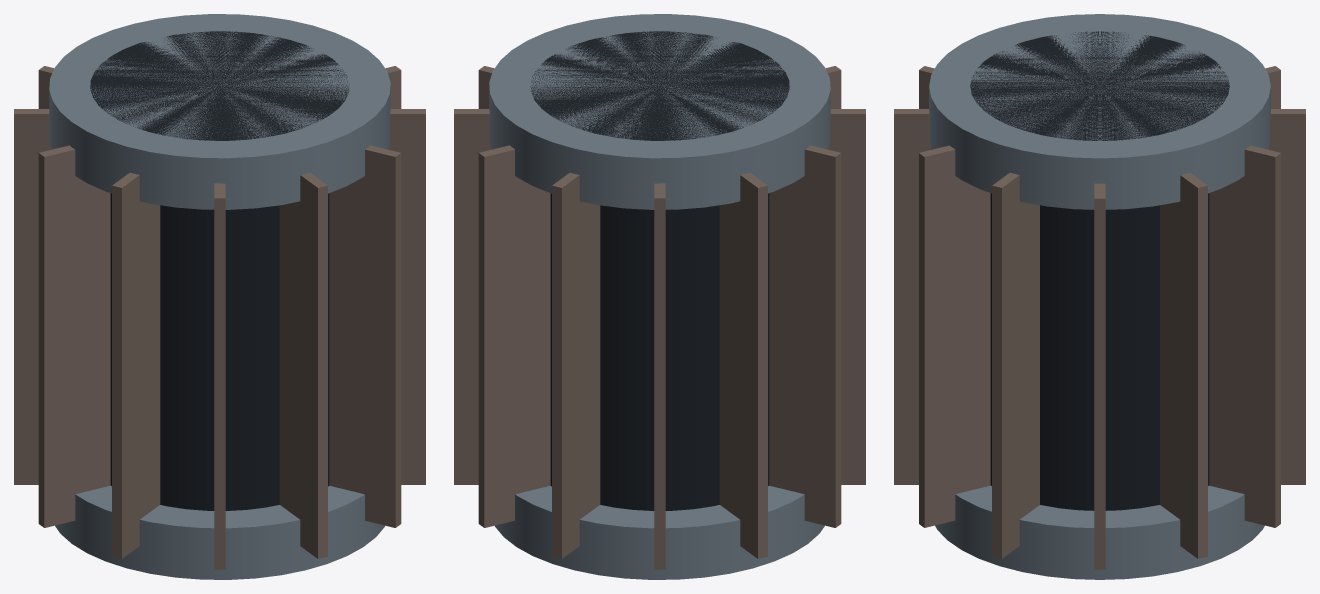
Rendered from voyager_rtg_boom.deployment.rtg_03.glb.
3 renders of one model, left to right at view 1: azimuth 30°, elevation 25°; view 2: azimuth 150°, elevation 25°; view 3: azimuth 270°, elevation 25°, orthographic.
Visible parts, largest first — view 1: voyager_rtg_boom.deployment.rtg_03.mesh_Heat-stained_alloy, voyager_rtg_boom.deployment.rtg_03.mesh_Machined_steel, voyager_rtg_boom.deployment.rtg_03.mesh_Carbon_composite; view 2: voyager_rtg_boom.deployment.rtg_03.mesh_Heat-stained_alloy, voyager_rtg_boom.deployment.rtg_03.mesh_Machined_steel, voyager_rtg_boom.deployment.rtg_03.mesh_Carbon_composite; view 3: voyager_rtg_boom.deployment.rtg_03.mesh_Heat-stained_alloy, voyager_rtg_boom.deployment.rtg_03.mesh_Machined_steel, voyager_rtg_boom.deployment.rtg_03.mesh_Carbon_composite.
Part boxes in pixels (x1,y1,x2,y2): voyager_rtg_boom.deployment.rtg_03.mesh_Heat-stained_alloy: (14,66,425,569); voyager_rtg_boom.deployment.rtg_03.mesh_Machined_steel: (49,14,390,579); voyager_rtg_boom.deployment.rtg_03.mesh_Carbon_composite: (90,31,349,510); voyager_rtg_boom.deployment.rtg_03.mesh_Heat-stained_alloy: (454,66,865,569); voyager_rtg_boom.deployment.rtg_03.mesh_Machined_steel: (489,14,830,579); voyager_rtg_boom.deployment.rtg_03.mesh_Carbon_composite: (530,31,789,510); voyager_rtg_boom.deployment.rtg_03.mesh_Heat-stained_alloy: (894,66,1305,569); voyager_rtg_boom.deployment.rtg_03.mesh_Machined_steel: (929,14,1270,579); voyager_rtg_boom.deployment.rtg_03.mesh_Carbon_composite: (970,31,1229,510).
Size of the model in its own units: 0.4338 by 0.49 by 0.4338.
